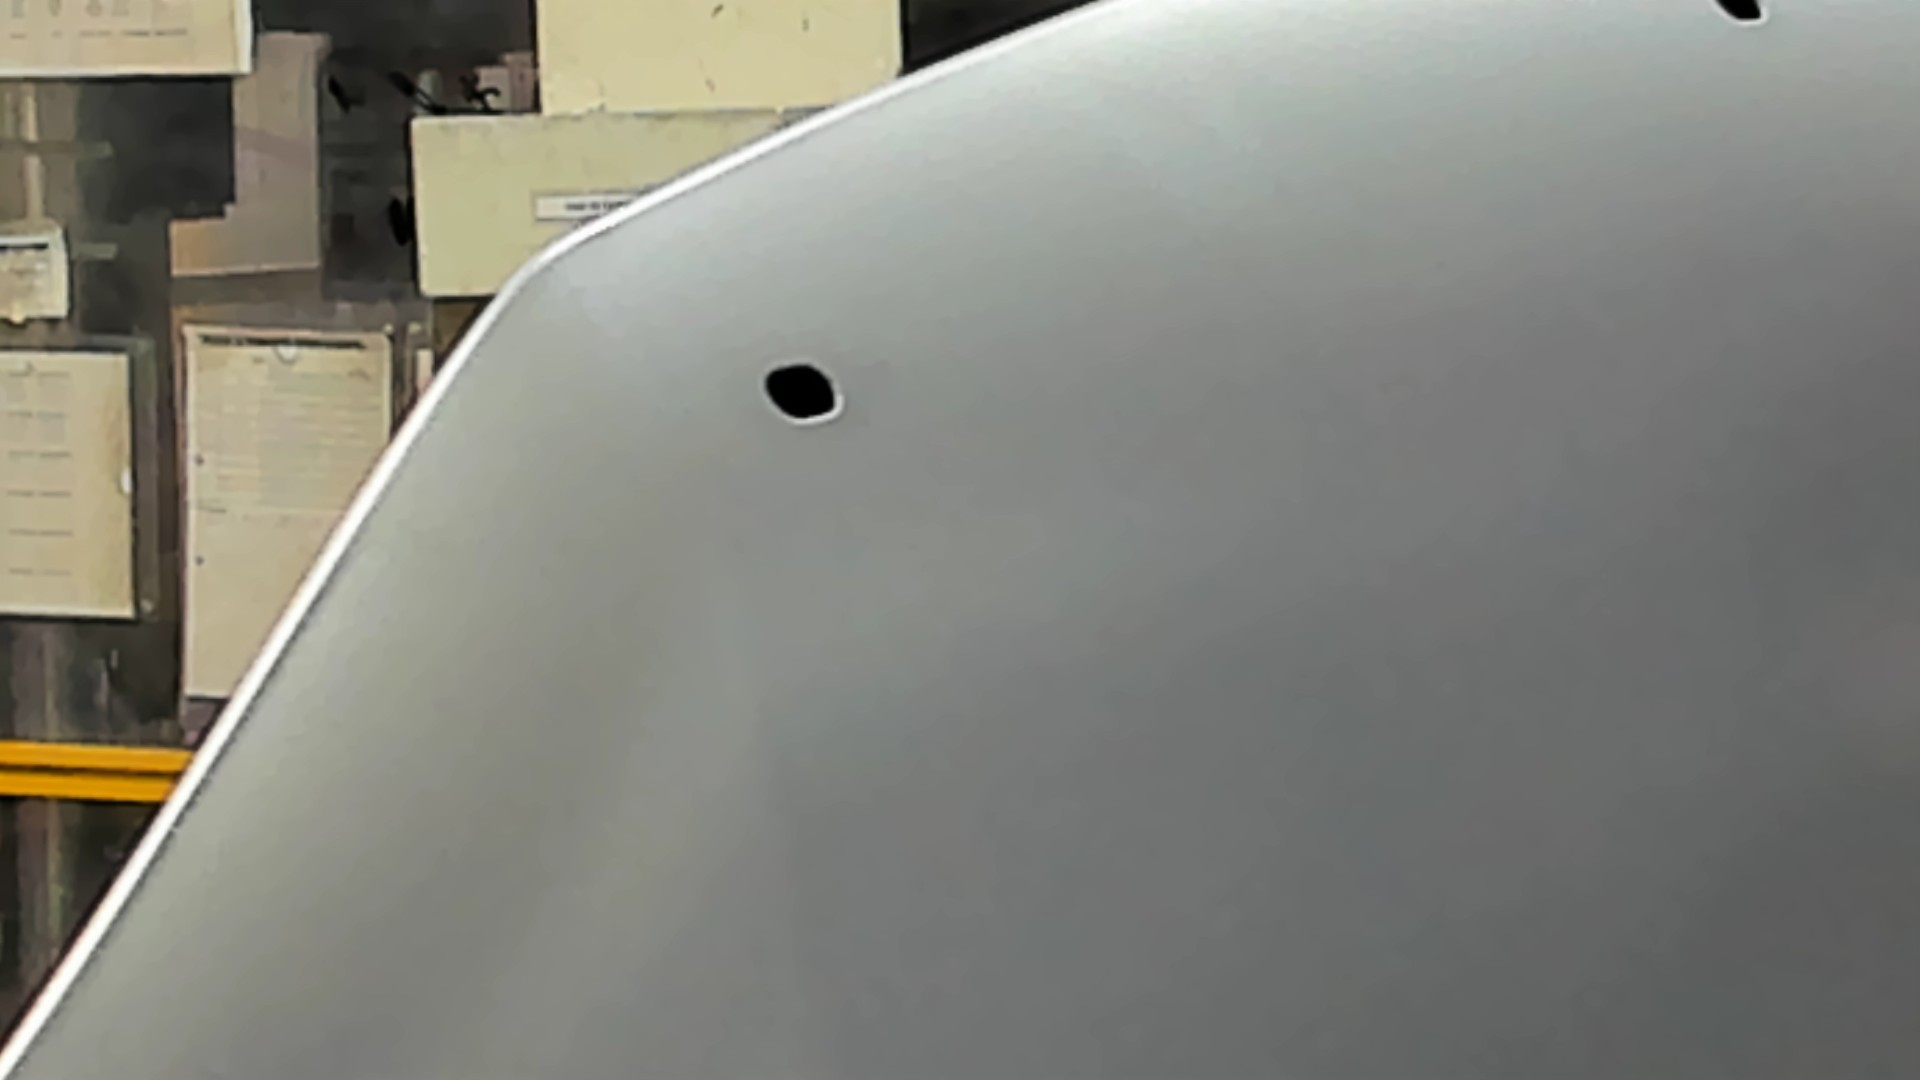amorfo: (754, 353, 848, 436), (1704, 1, 1779, 37)
